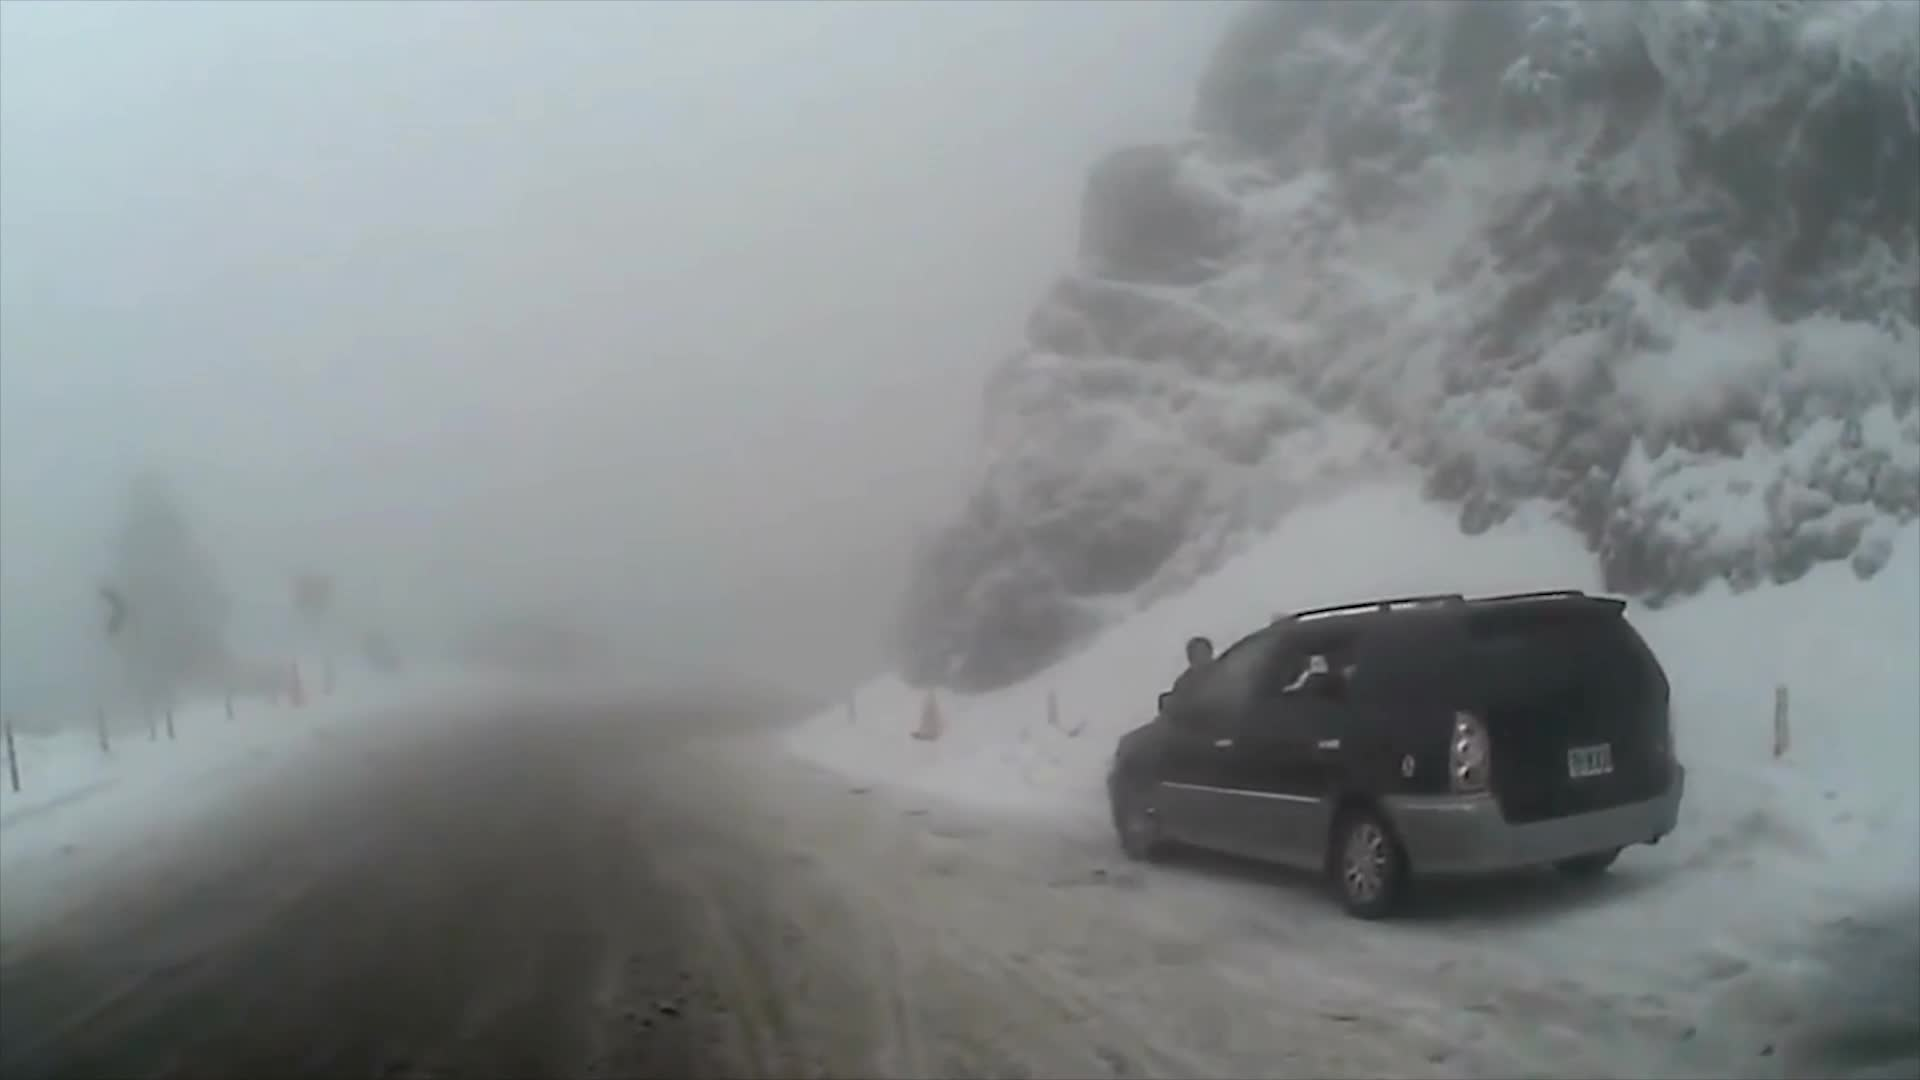vehicle: (1104, 585, 1685, 922)
